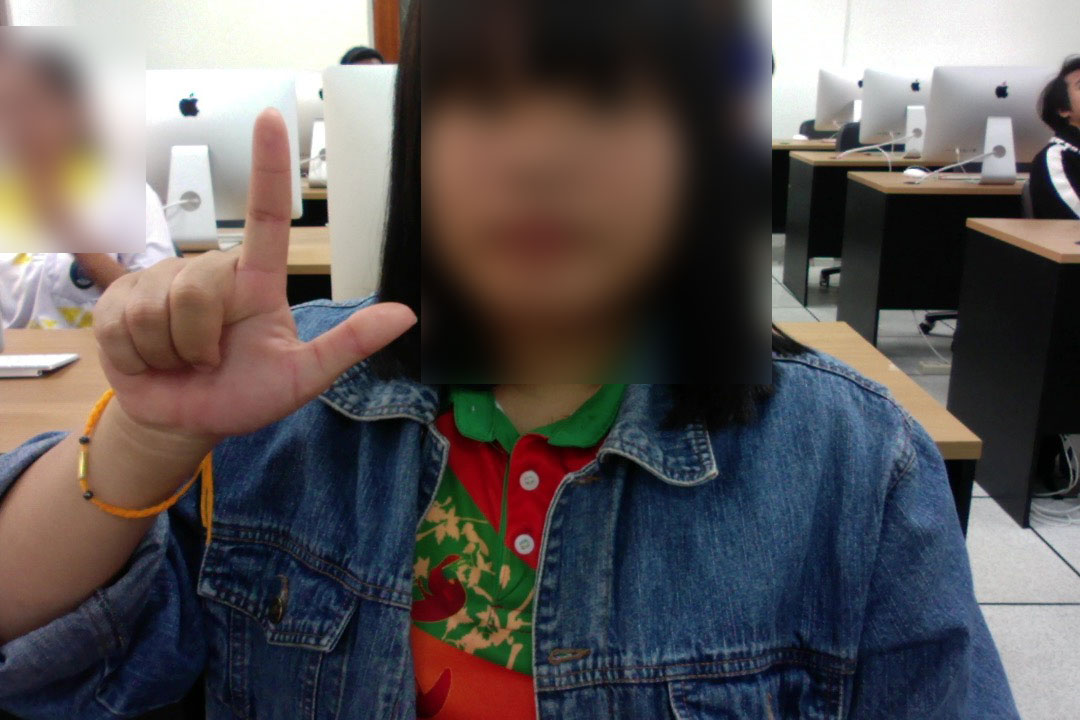lor: (69, 89, 434, 457)
